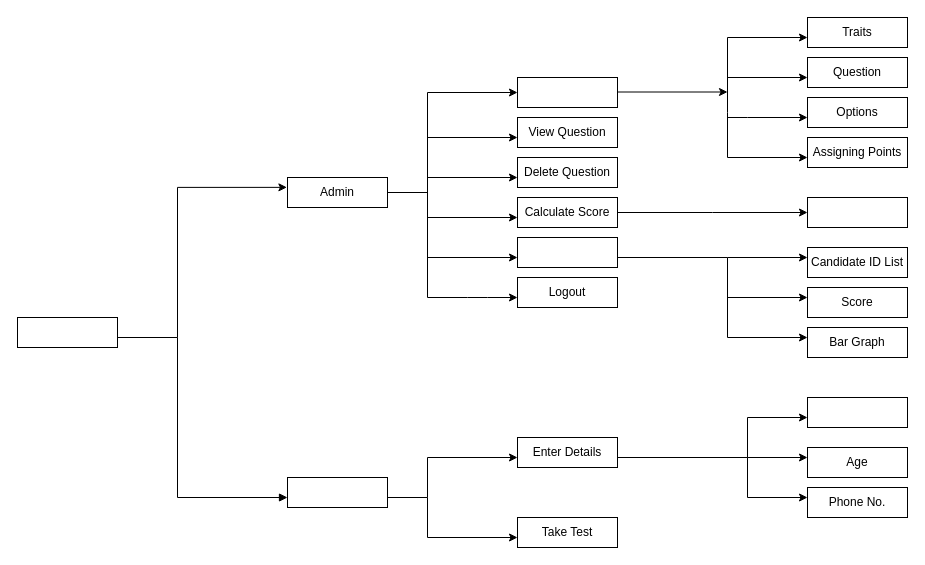
Some shapes in this 925 by 565 pixel diagram are drawn without their labels. The box of each missing label's shape, as (x1, y1, x2, y2) in pixels:
Add Question: (516, 76, 618, 108)
Candidates: (286, 476, 388, 508)
Display Calculated Result: (806, 196, 908, 228)
Name: (806, 396, 908, 428)
User: (16, 316, 118, 348)
View Result: (516, 236, 618, 268)
